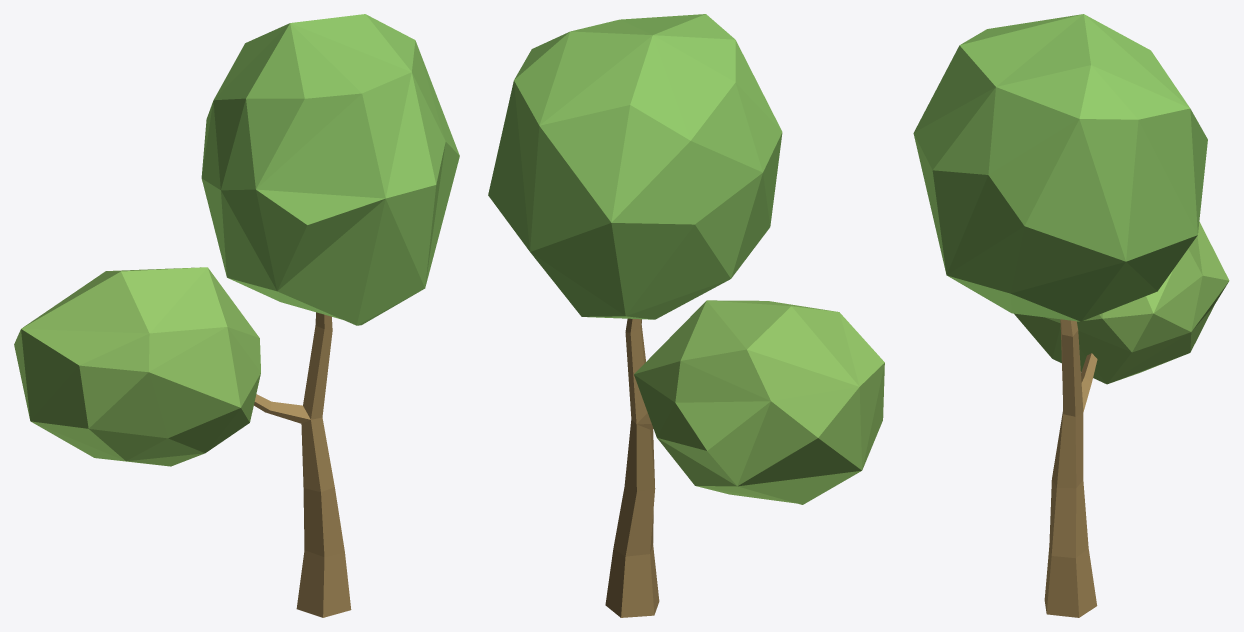
Rendered from Oak_Tree_m_BT_09.fbx.
The picture shows the model from 3 angles, left to right: view 1: azimuth 30°, elevation 25°; view 2: azimuth 150°, elevation 25°; view 3: azimuth 270°, elevation 25°; orthographic projection.
Visible parts, largest first — view 1: Oak_Tree_m_BT_09; view 2: Oak_Tree_m_BT_09; view 3: Oak_Tree_m_BT_09.
Part boxes in pixels (x1,y1,x2,y2): Oak_Tree_m_BT_09: [14, 14, 459, 617]; Oak_Tree_m_BT_09: [488, 14, 884, 617]; Oak_Tree_m_BT_09: [913, 14, 1229, 617].
Size of the model in its own units: 518 by 757 by 374.
